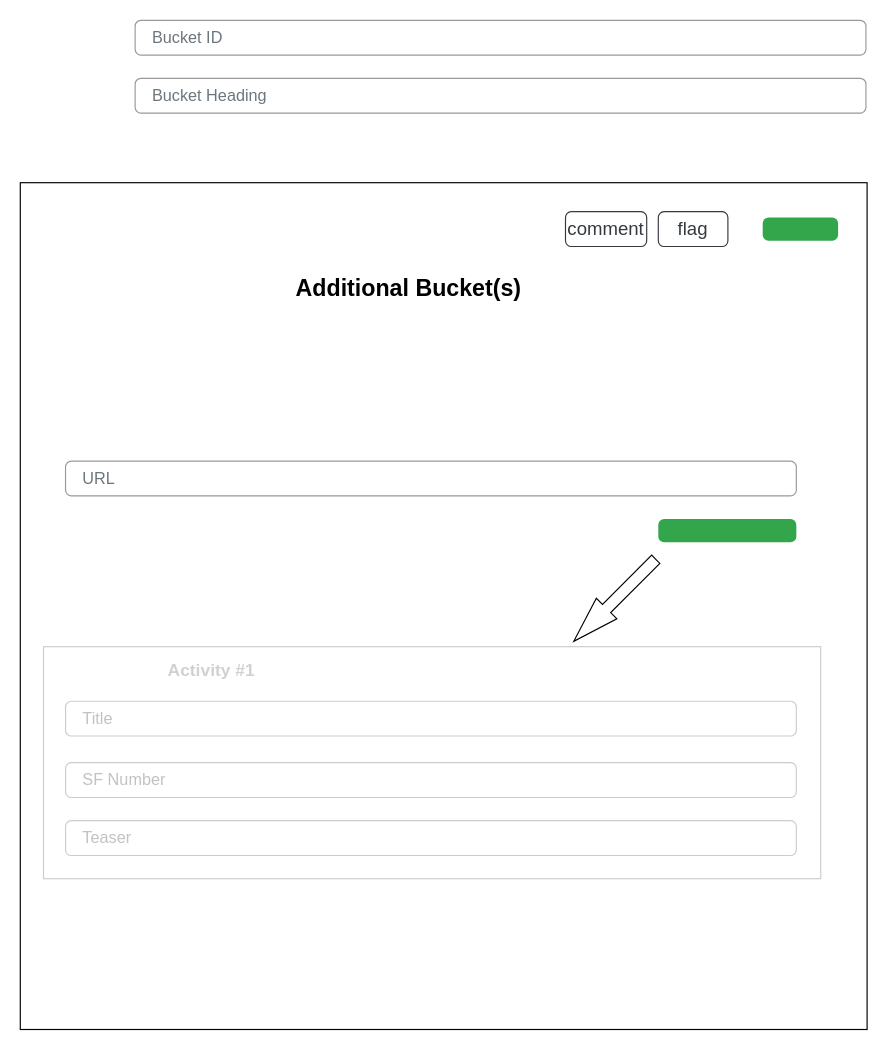
Some shapes in this 887 by 1050 pixel diagram are drawn without their labels. The shapes that lost their labels are listed below. From the top down, each one's centre as x and y in pixels, then its label:
At pixel 800 228: "+ Add".
At pixel 727 530: "+ Add Activity".
